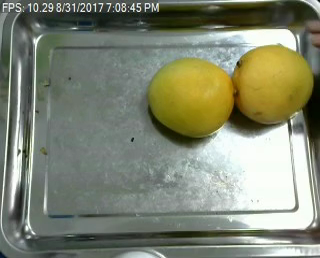Mango: (145, 55, 233, 139), (234, 42, 315, 125)
